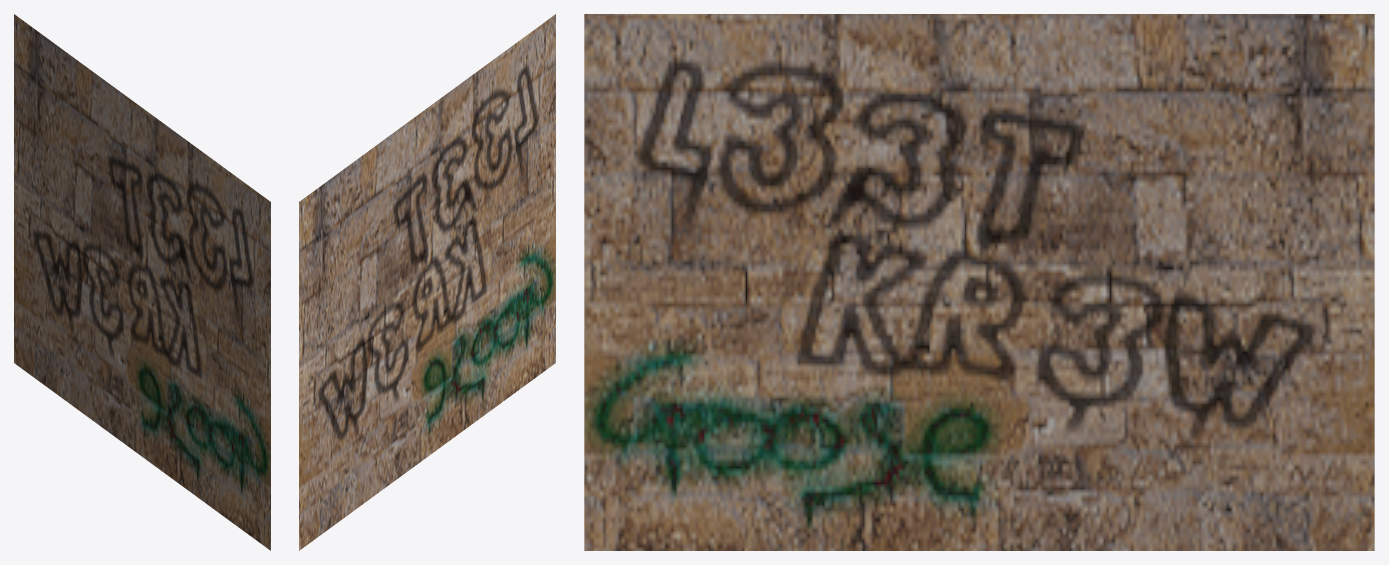
3 renders of one model, left to right at view 1: azimuth 30°, elevation 25°; view 2: azimuth 150°, elevation 25°; view 3: azimuth 270°, elevation 25°, orthographic. The views are drawn at different scales.
Visible parts, largest first — view 1: Object_28; view 2: Object_28; view 3: Object_28.
Boxes of the visible parts, x1=… form: Object_28: x1=14, y1=14, x2=270, y2=550; Object_28: x1=299, y1=14, x2=555, y2=550; Object_28: x1=584, y1=14, x2=1374, y2=550.
Bounding box in the file's own units: 0 × 2.56 × 3.41.
1 material, 1 textured.
